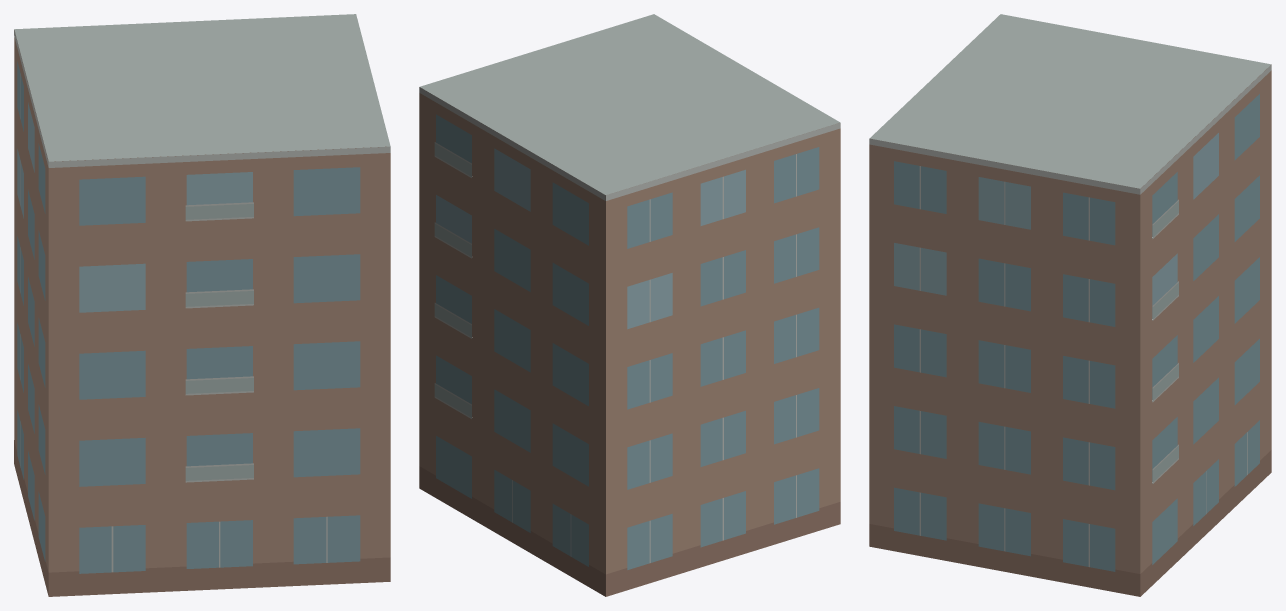
File: survey-upis-32531288.glb
3 renders of one model, left to right at view 1: azimuth 30°, elevation 25°; view 2: azimuth 150°, elevation 25°; view 3: azimuth 270°, elevation 25°, orthographic. The views are drawn at different scales.
Visible parts, largest first — view 1: survey-upis-32531288.tmp; view 2: survey-upis-32531288.tmp; view 3: survey-upis-32531288.tmp.
Boxes of the visible parts, box(x1,y1,x2,y2) form: survey-upis-32531288.tmp: box(14, 14, 390, 596); survey-upis-32531288.tmp: box(419, 14, 840, 596); survey-upis-32531288.tmp: box(869, 14, 1271, 596).
Size of the model in its own units: 15.25 by 16.6 by 14.83.
